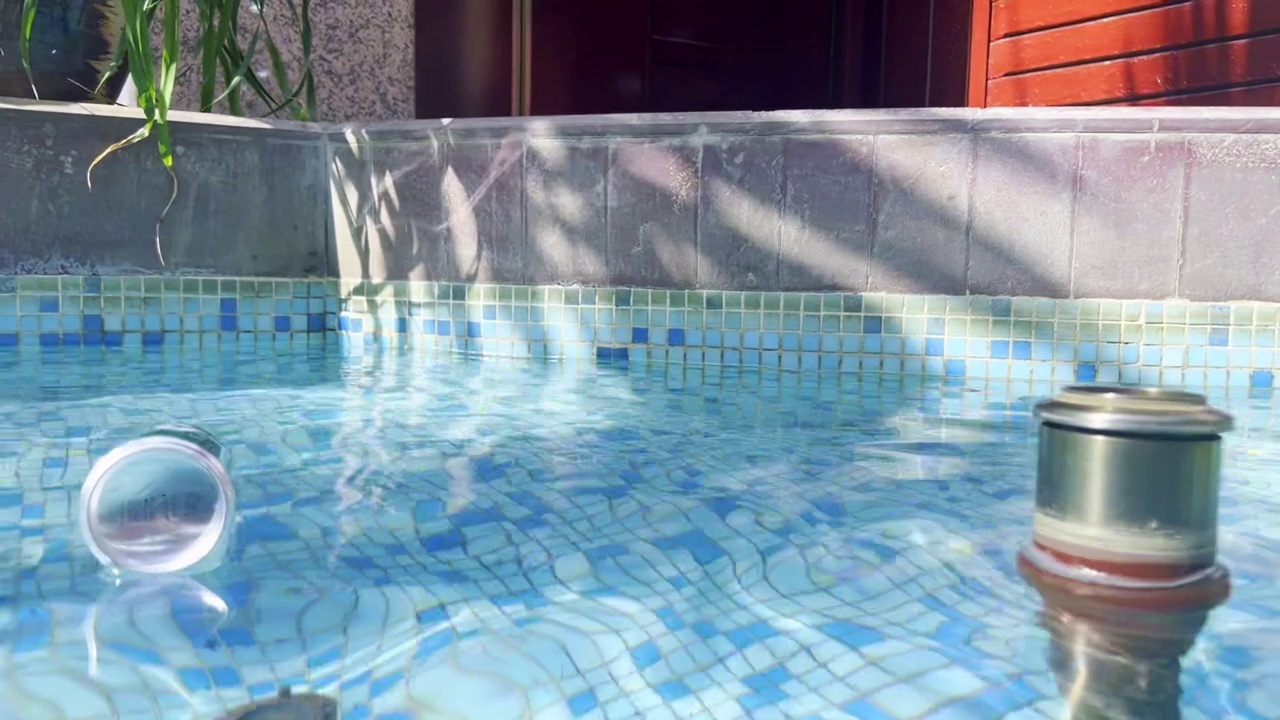debris: (66, 415, 240, 583)
